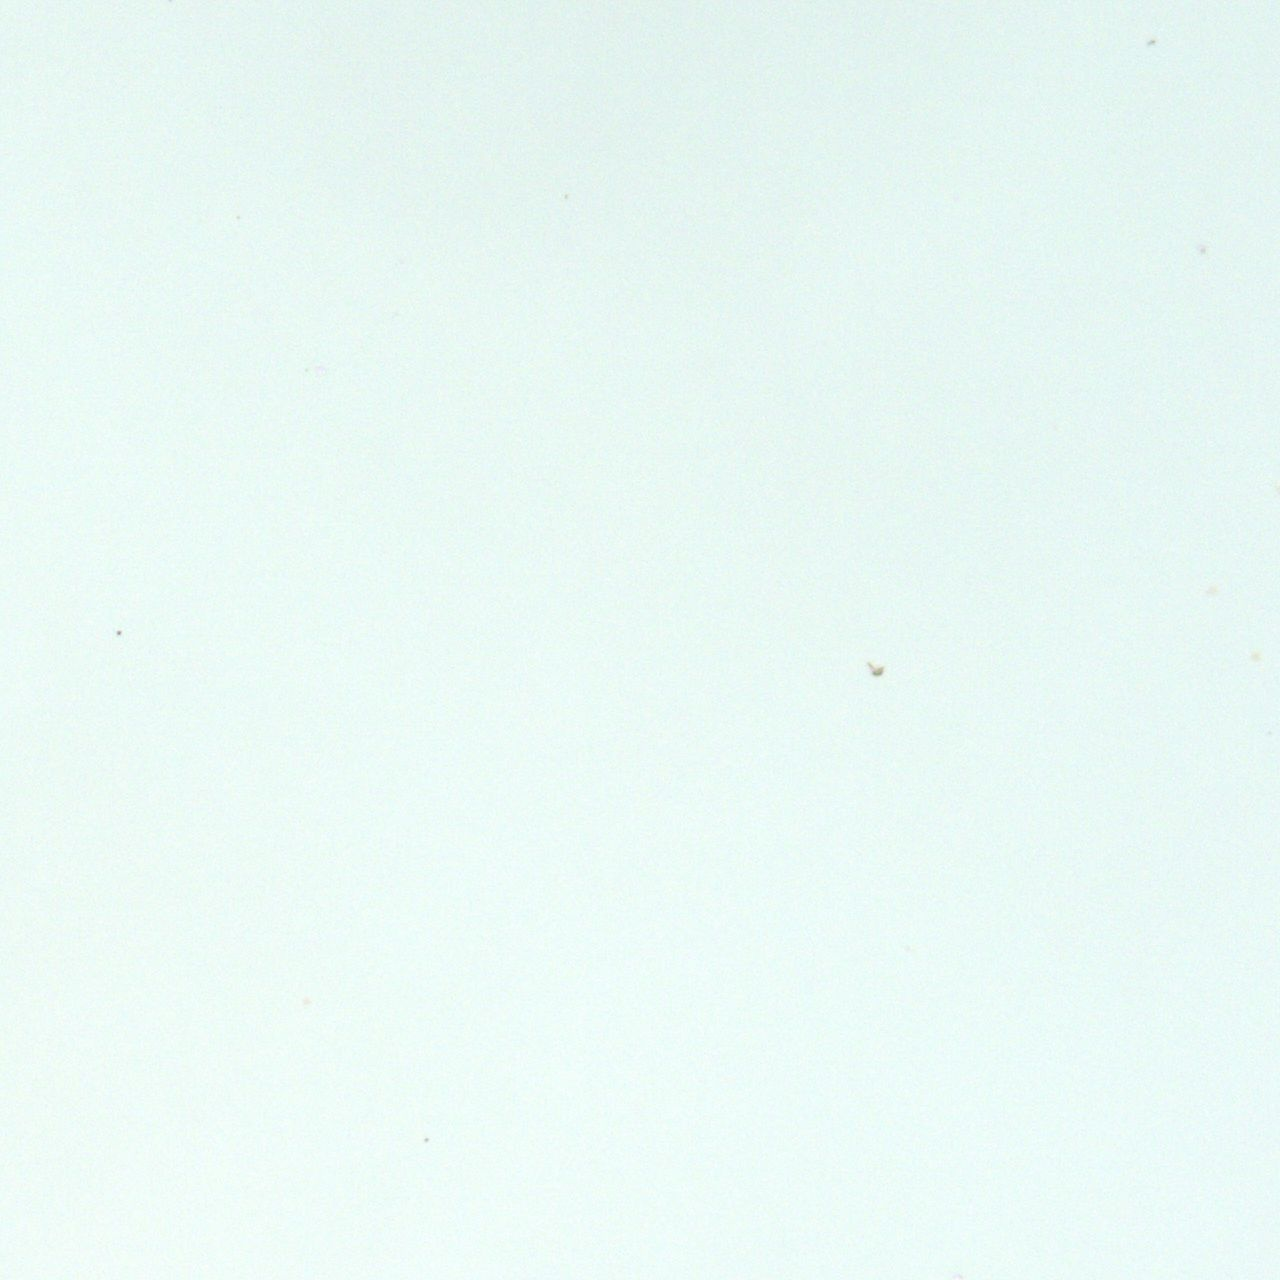dust: (869, 663, 883, 676), (1146, 40, 1155, 46), (115, 629, 122, 635), (423, 1136, 429, 1142)
